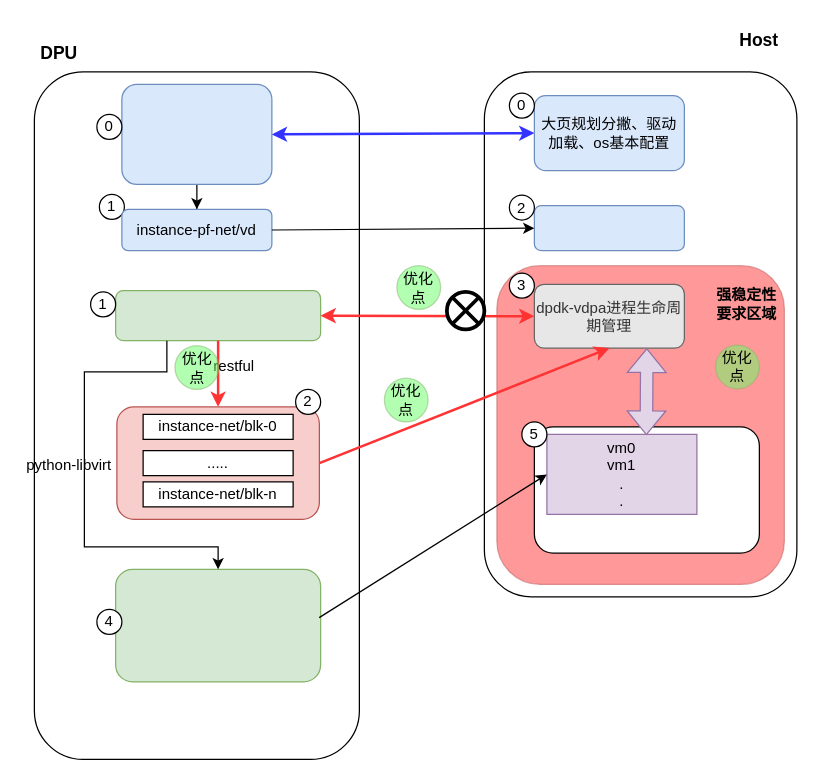
Some shapes in this 819 by 781 pixel diagram are drawn without their labels. The centre of each missing label's shape, as x and y in pixels:
instance-vm0 instance-vm1 ...: the point at 217,625
openstack/k8s: the point at 217,315
pf切分: the point at 608,227
配bond、启服务(ovs dpdk绑物理卡+ovs创建网桥)、os基础配置等: the point at 196,133
